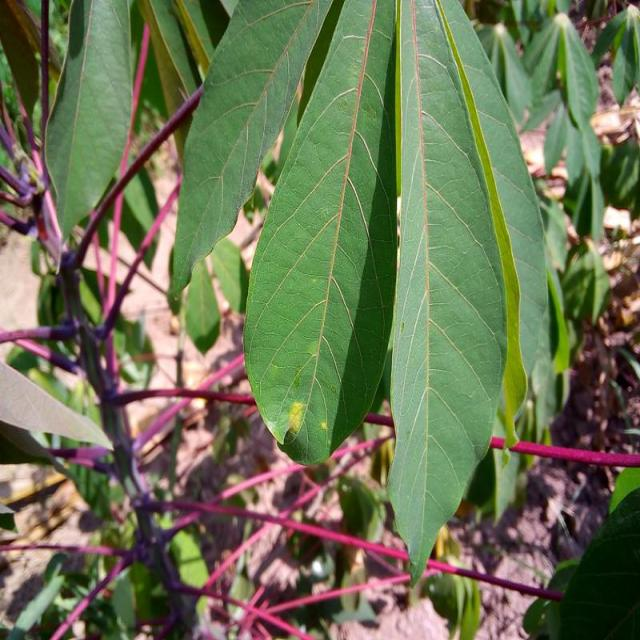cassava leaf: (170, 0, 554, 585), (242, 0, 398, 466), (386, 0, 510, 586), (168, 0, 334, 306), (41, 0, 134, 246)
